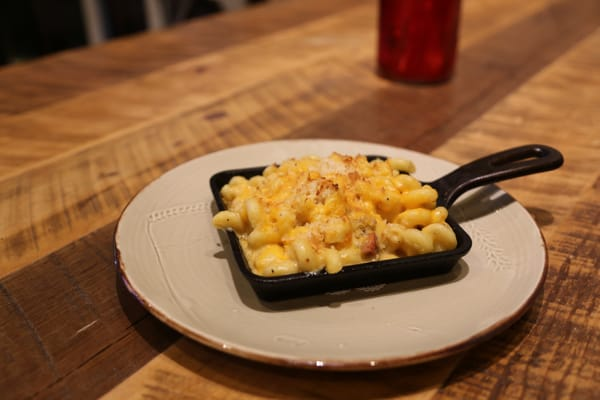pizza: (374, 0, 463, 85)
